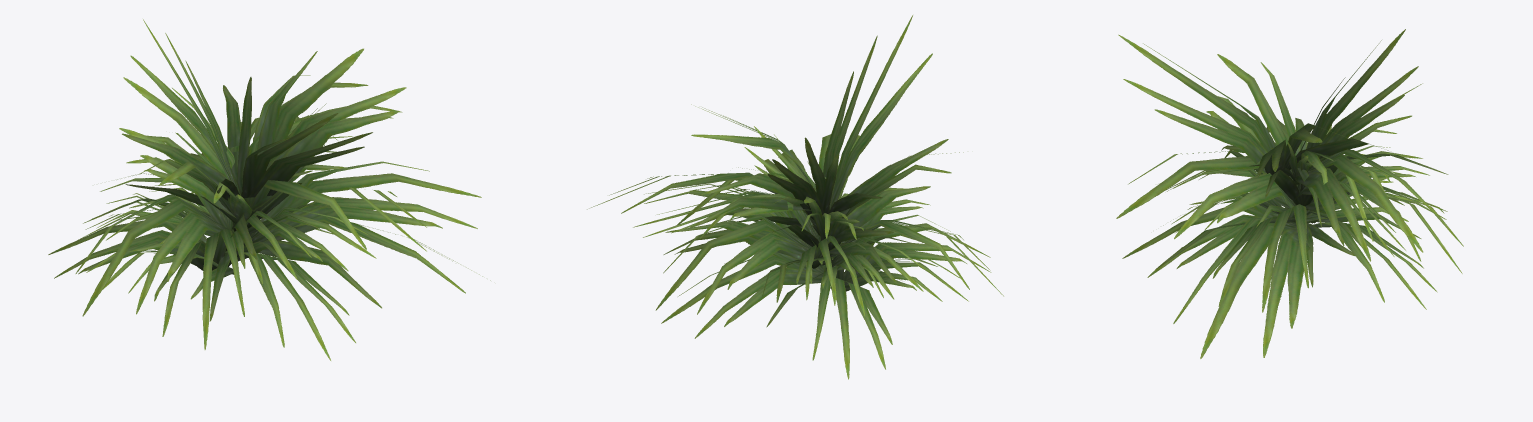
Rendered from tree_d.FBX.
3 renders of one model, left to right at view 1: azimuth 30°, elevation 25°; view 2: azimuth 150°, elevation 25°; view 3: azimuth 270°, elevation 25°, orthographic. The views are drawn at different scales.
Parts seen in each view (by area): view 1: tree_d; view 2: tree_d; view 3: tree_d.
Boxes of the visible parts, x1=… form: tree_d: x1=48, y1=19, x2=490, y2=360; tree_d: x1=587, y1=15, x2=1003, y2=379; tree_d: x1=1116, y1=29, x2=1463, y2=358.
Size of the model in its own units: 4.72 by 2.92 by 4.48.
Materials: 1 (1 with a texture image).
